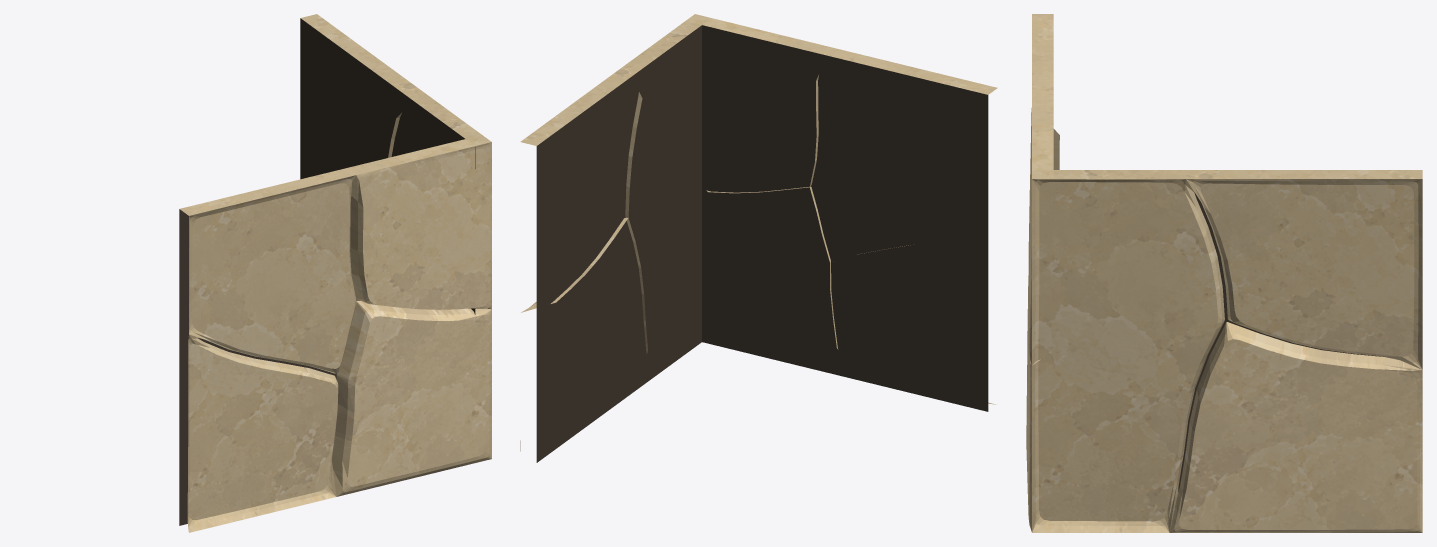
The model's file is ground_square_corner_10.glb.
3 renders of one model, left to right at view 1: azimuth 30°, elevation 25°; view 2: azimuth 150°, elevation 25°; view 3: azimuth 270°, elevation 25°, orthographic. The views are drawn at different scales.
Visible parts, largest first — view 1: GroundSquareCorner10_Body; view 2: GroundSquareCorner10_Body; view 3: GroundSquareCorner10_Body.
Part boxes in pixels (bbox=[...]): GroundSquareCorner10_Body: bbox=[179, 14, 491, 532]; GroundSquareCorner10_Body: bbox=[520, 14, 997, 462]; GroundSquareCorner10_Body: bbox=[1026, 14, 1422, 532].
Size of the model in its own units: 1.01 by 1 by 1.01.
9 materials, 8 textured.
